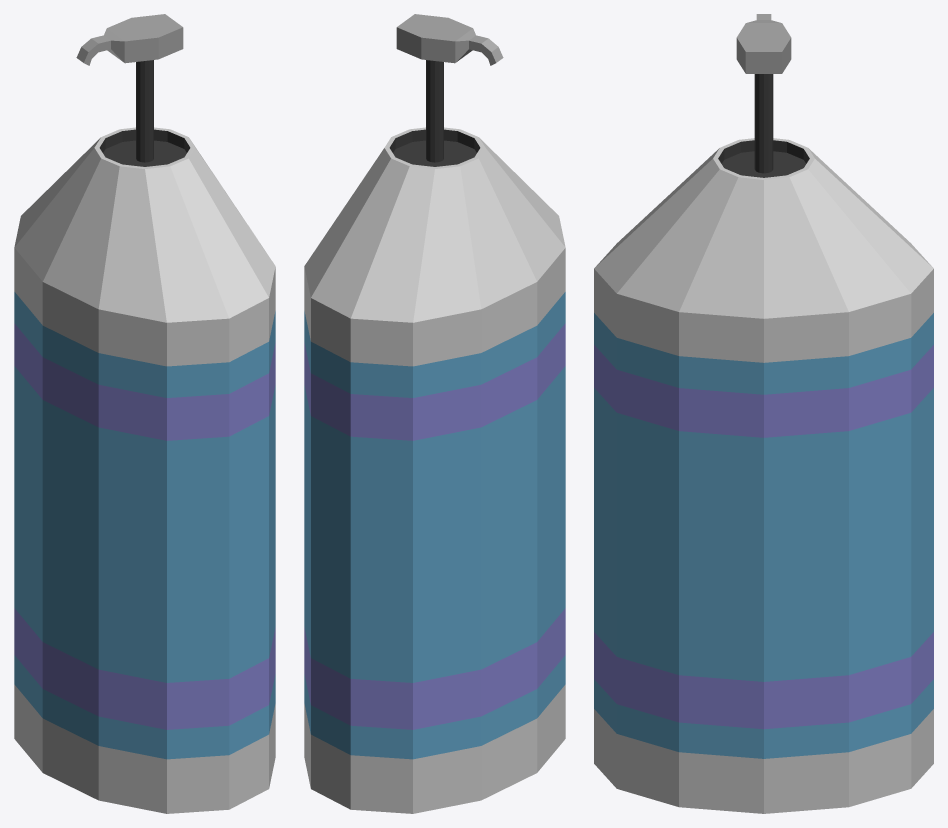
File: Lotion.fbx
The picture shows the model from 3 angles, left to right: view 1: azimuth 30°, elevation 25°; view 2: azimuth 150°, elevation 25°; view 3: azimuth 270°, elevation 25°; orthographic projection.
Visible parts, largest first — view 1: Lotion, Nozzle; view 2: Lotion, Nozzle; view 3: Lotion, Nozzle.
Part boxes in pixels (x1,y1,x2,y2): Lotion: [14, 127, 275, 813]; Nozzle: [76, 14, 183, 162]; Lotion: [304, 127, 565, 813]; Nozzle: [396, 14, 503, 162]; Lotion: [594, 138, 933, 813]; Nozzle: [736, 14, 791, 173].
Bounding box in the file's own units: 39.2 × 132 × 56.
